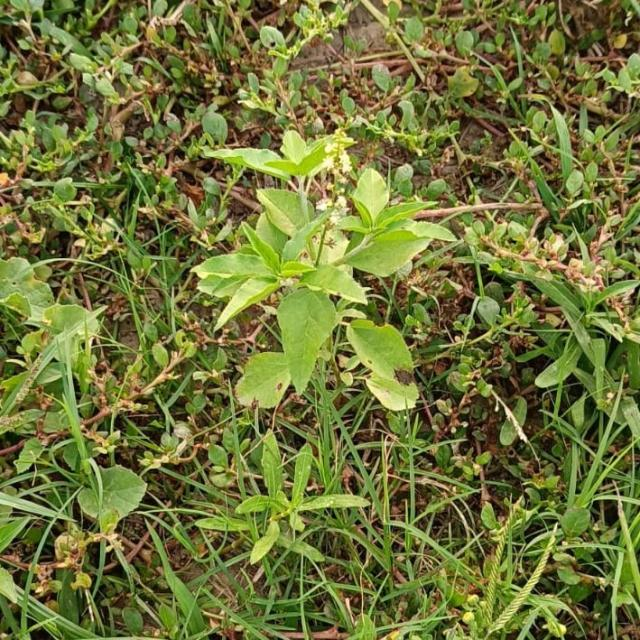weed: (195, 132, 454, 411), (202, 431, 366, 563), (0, 258, 98, 473), (37, 421, 146, 597)
